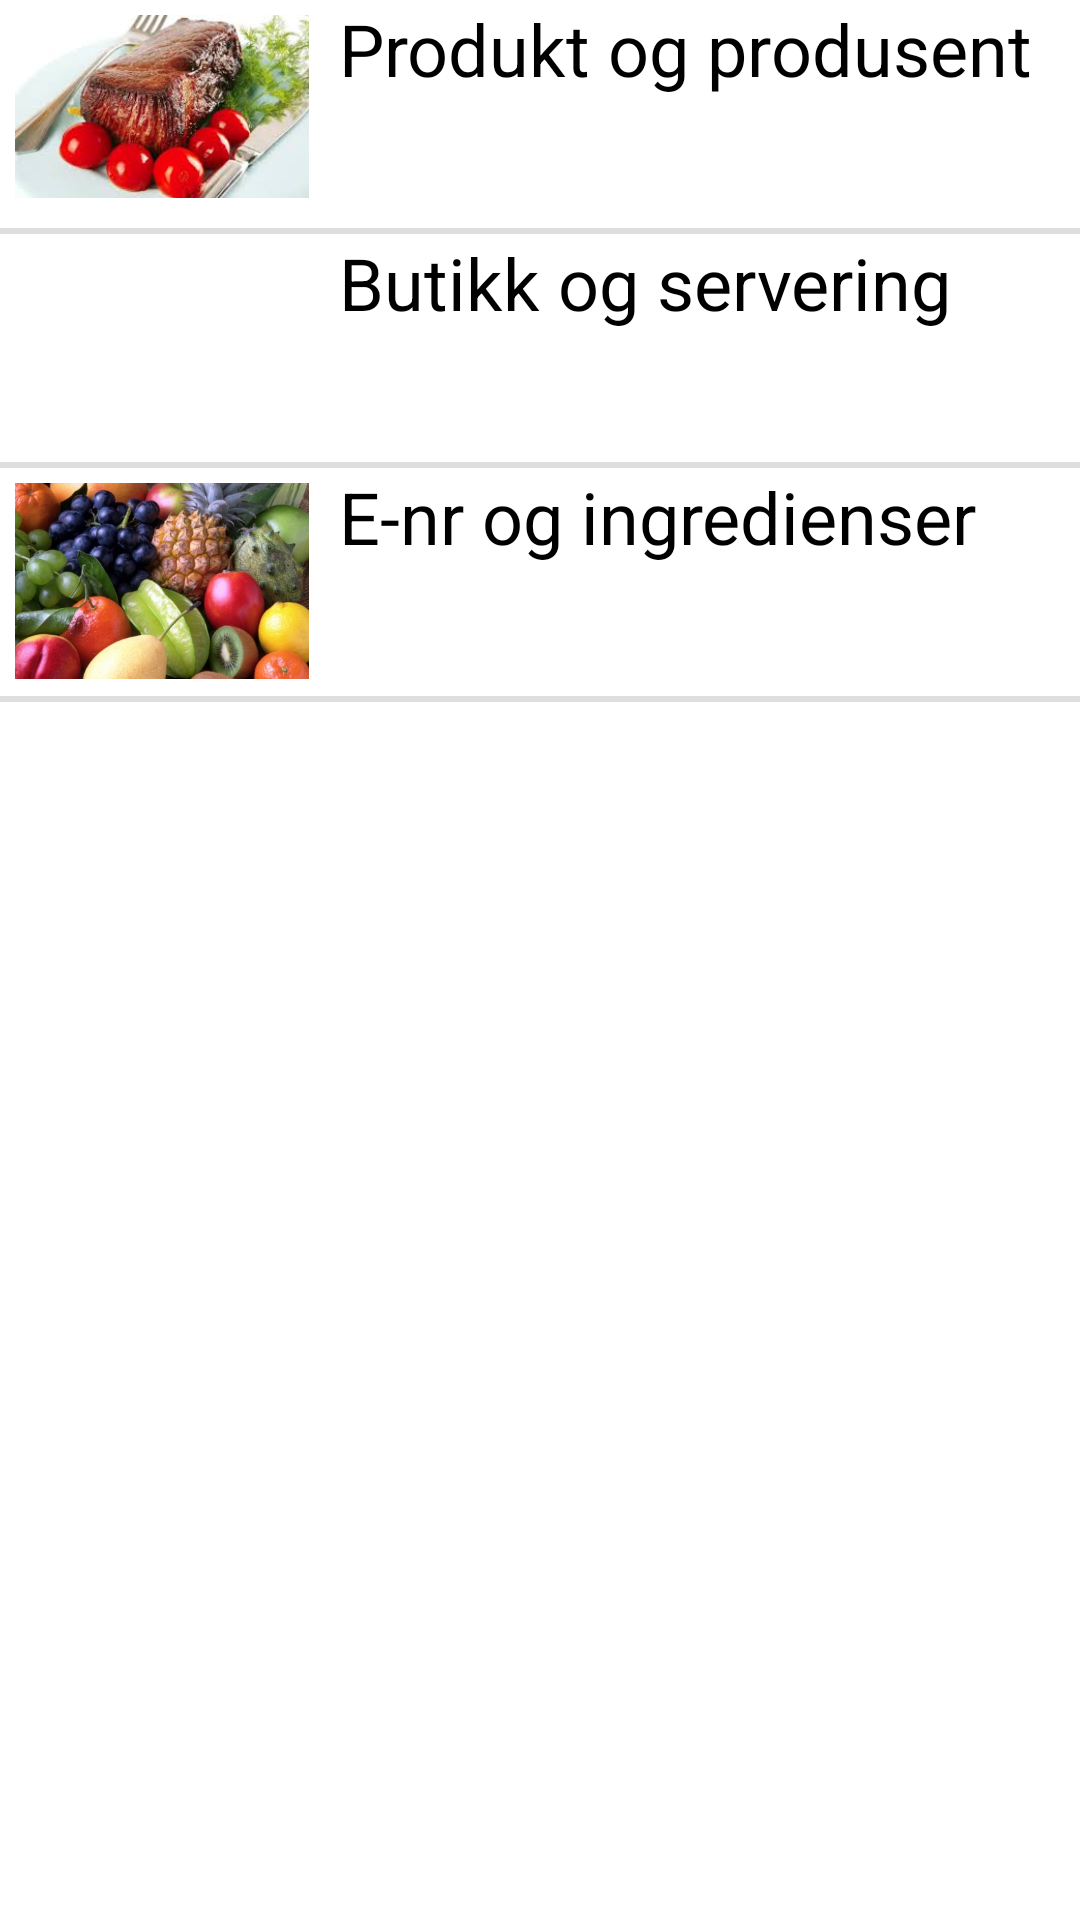

Screen size 1080px x 1920px. Icon name, then its box in pixels as (x1, y1, x2, y2):
fruits sweet fruit: (15, 483, 309, 679)
